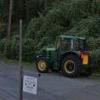Tractor: (36, 28, 100, 81)
